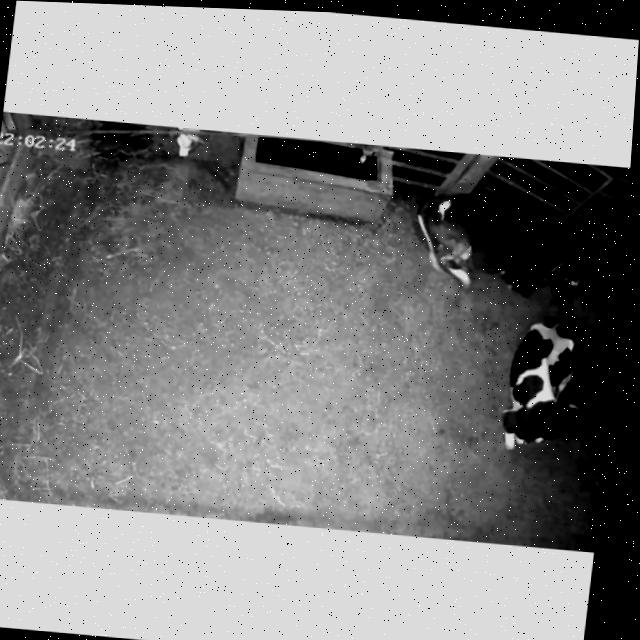lay: (399, 176, 616, 324), (479, 310, 604, 466)
